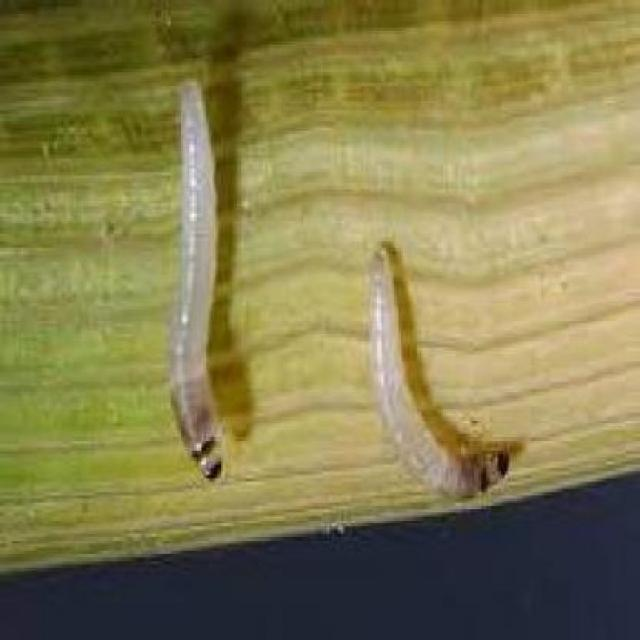whorl-maggot: (366, 235, 516, 511), (162, 51, 246, 522)
